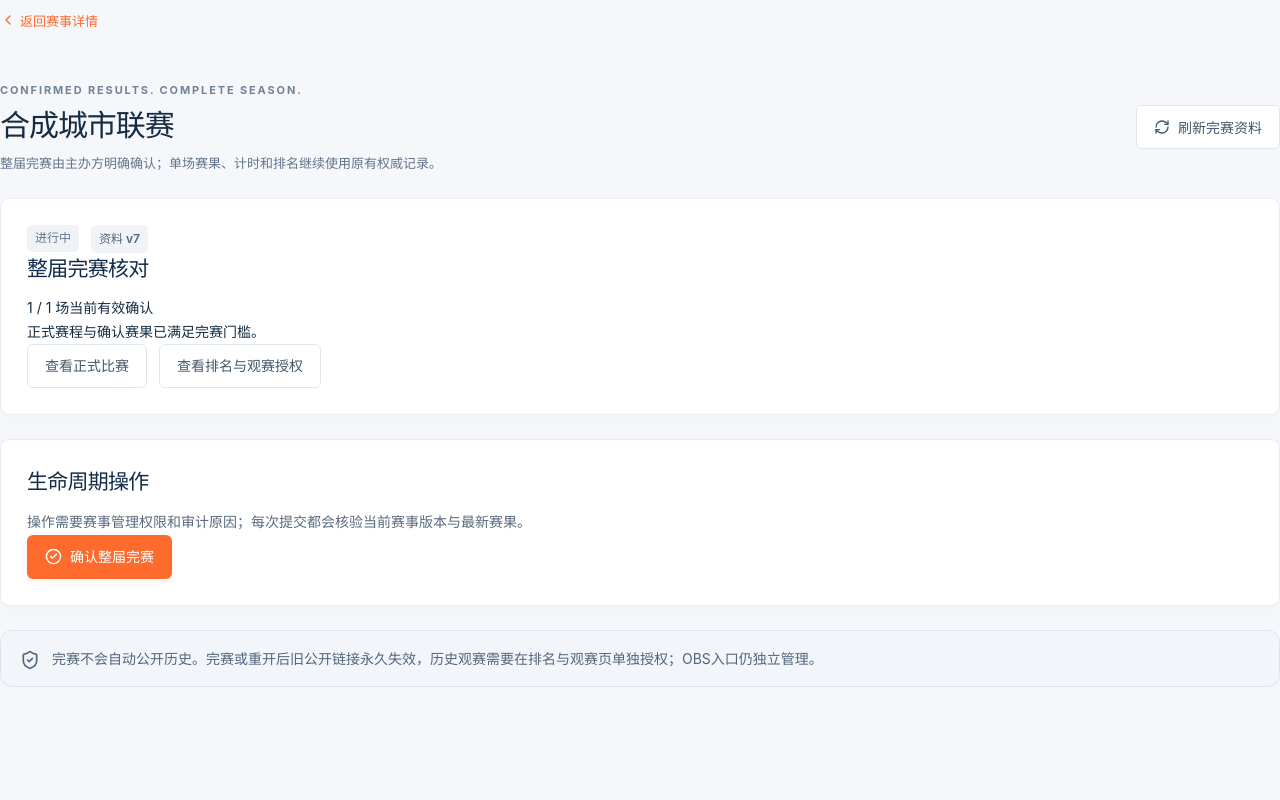
Test: explicit event closure and recovery UI › requires a reason and second confirmation, cancellation sends nothing, then submits the seen version once
Click the button "确认整届完赛" at {"x": 100, "y": 557}, box 27,535 -> 172,579
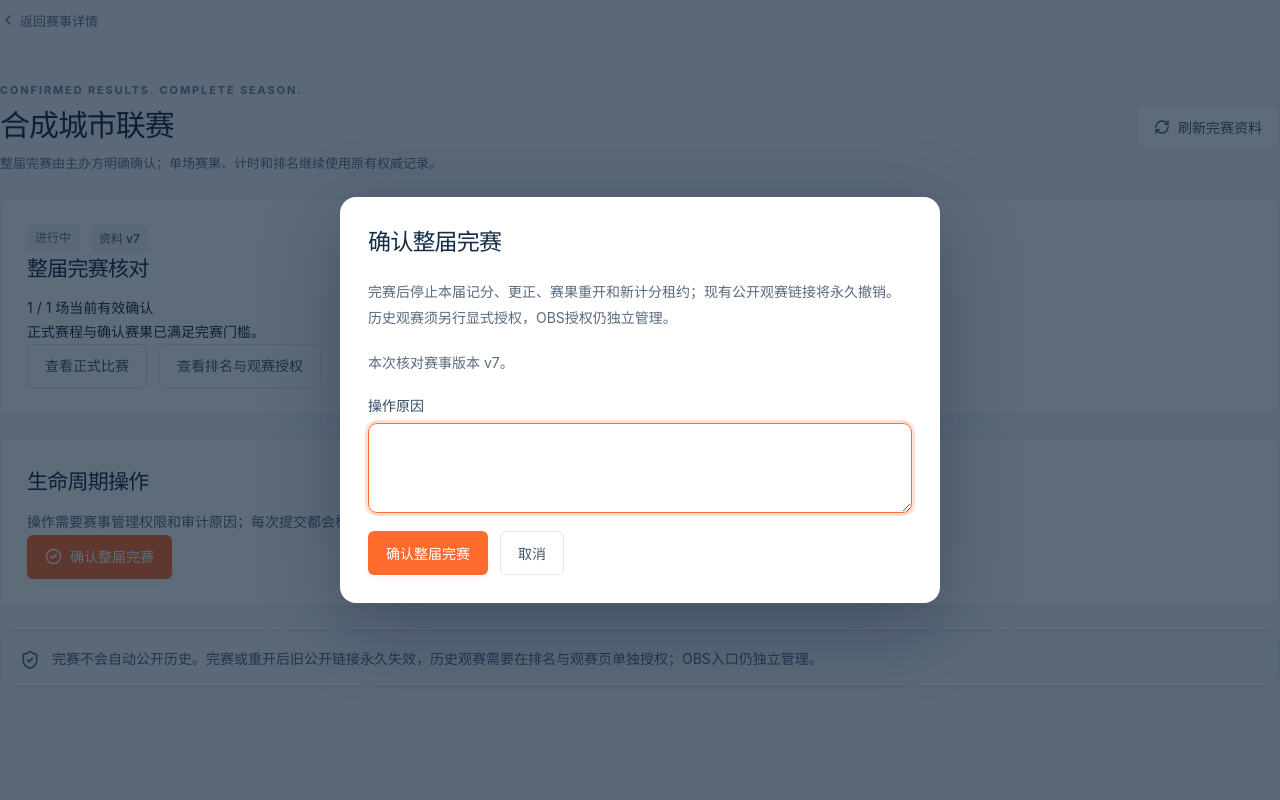
Click the button "取消" at {"x": 532, "y": 553}, box 500,531 -> 564,575
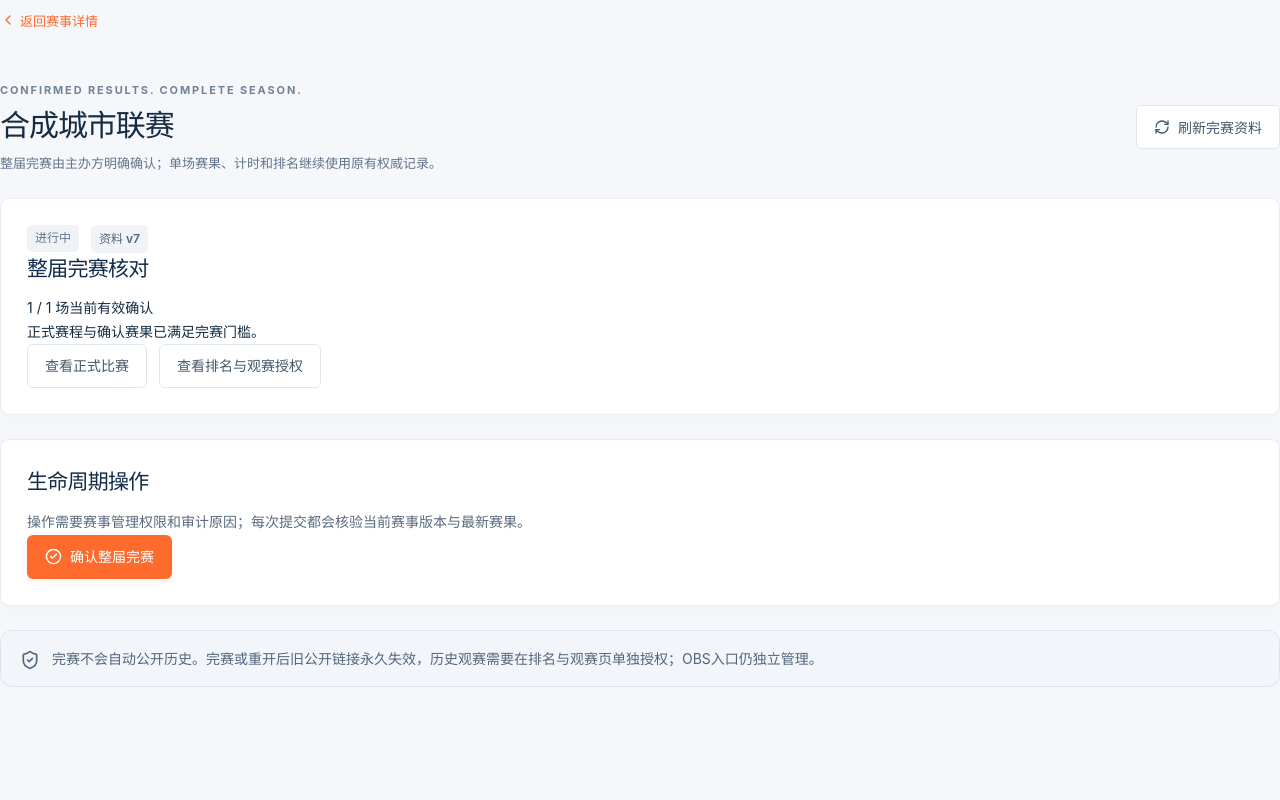
Click the button "确认整届完赛" at {"x": 100, "y": 557}, box 27,535 -> 172,579
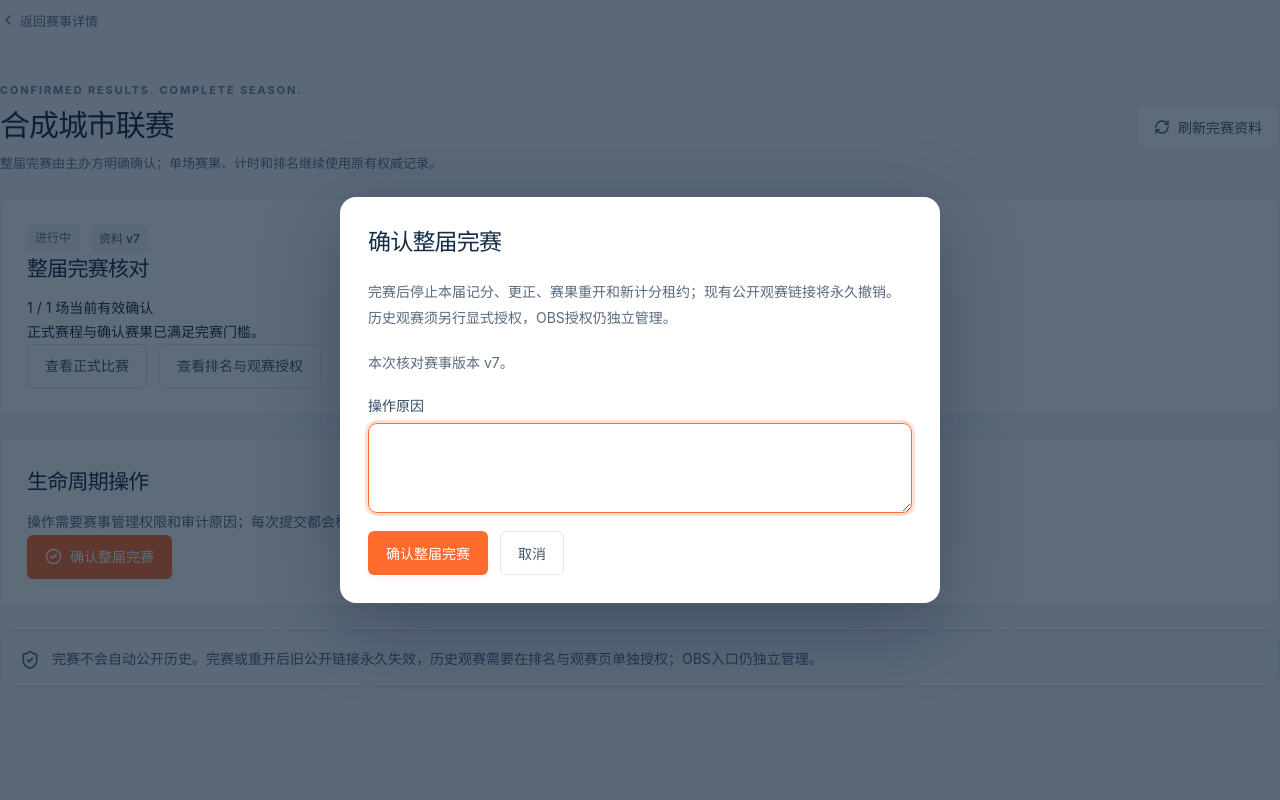
Click the button "确认整届完赛" at {"x": 428, "y": 553}, box 368,531 -> 488,575
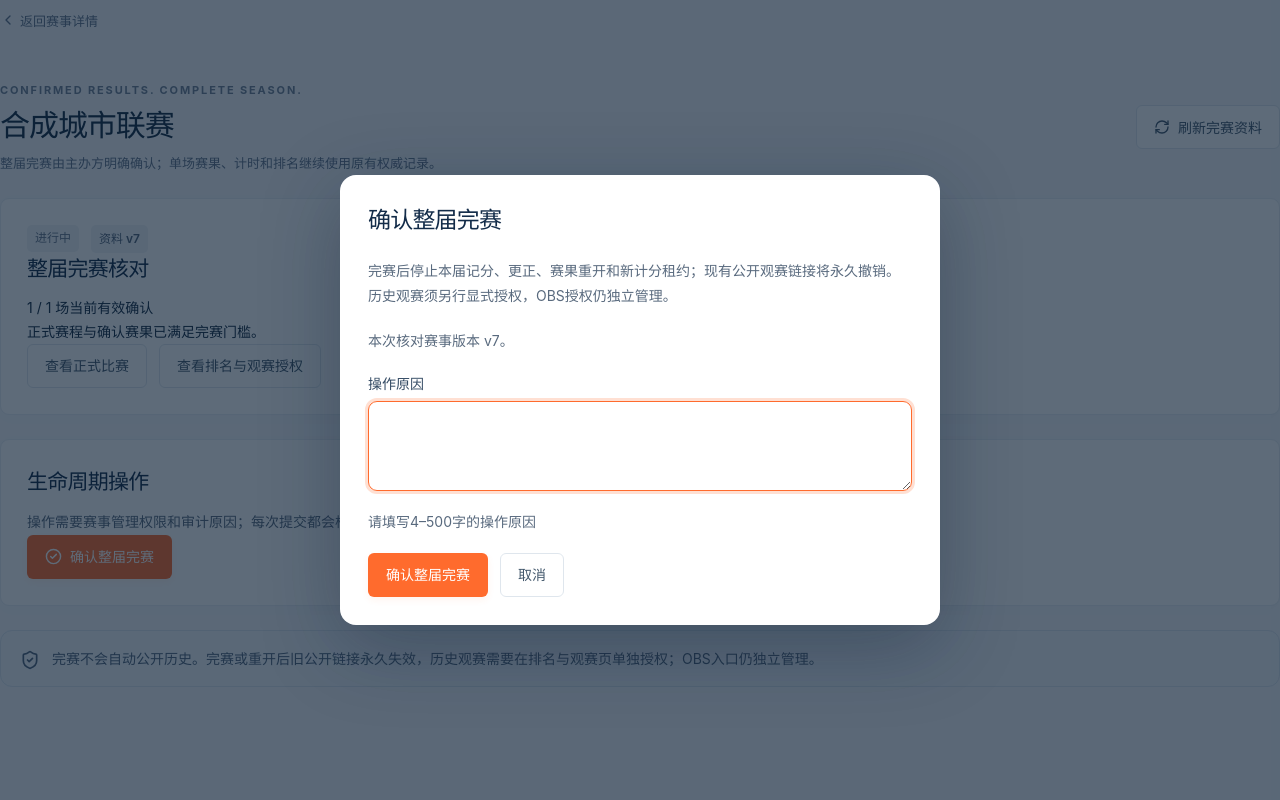
Check: the message shows "请填写4–500字", box 368,513 -> 536,530
Type "  全场确认核对完成  " into the text box labelled "操作原因" at {"x": 640, "y": 446}, box 368,401 -> 912,491
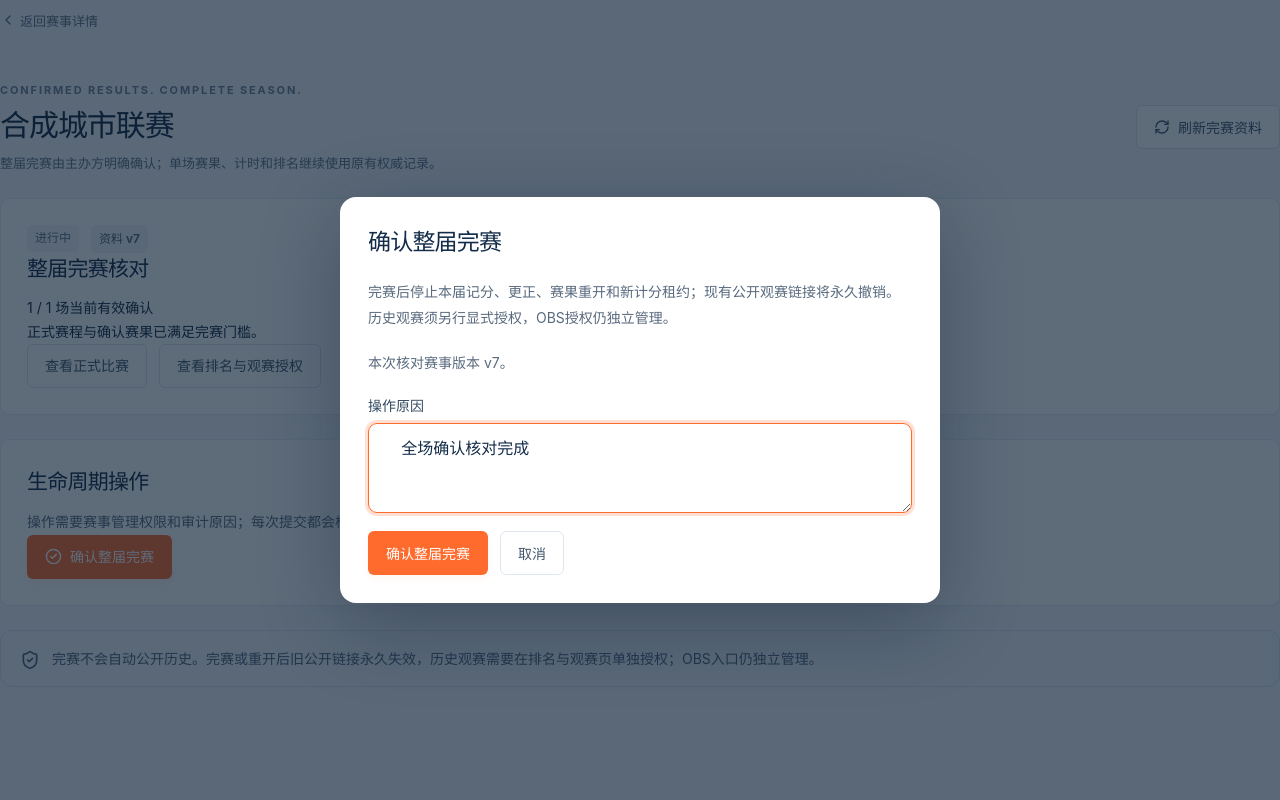
Click the button "确认整届完赛" at {"x": 428, "y": 553}, box 368,531 -> 488,575
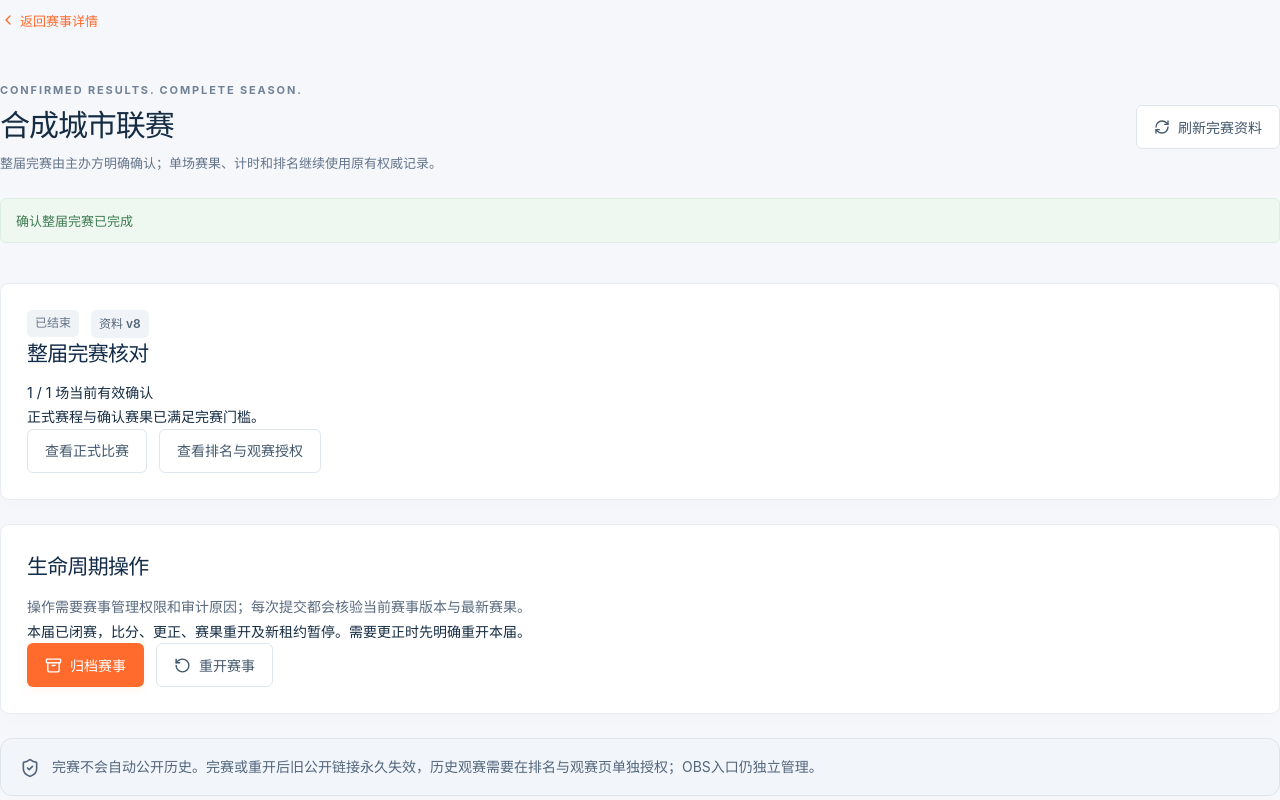
Check: the button "归档赛事" is shown, box 27,643 -> 144,687
Check: the dialog is gone
